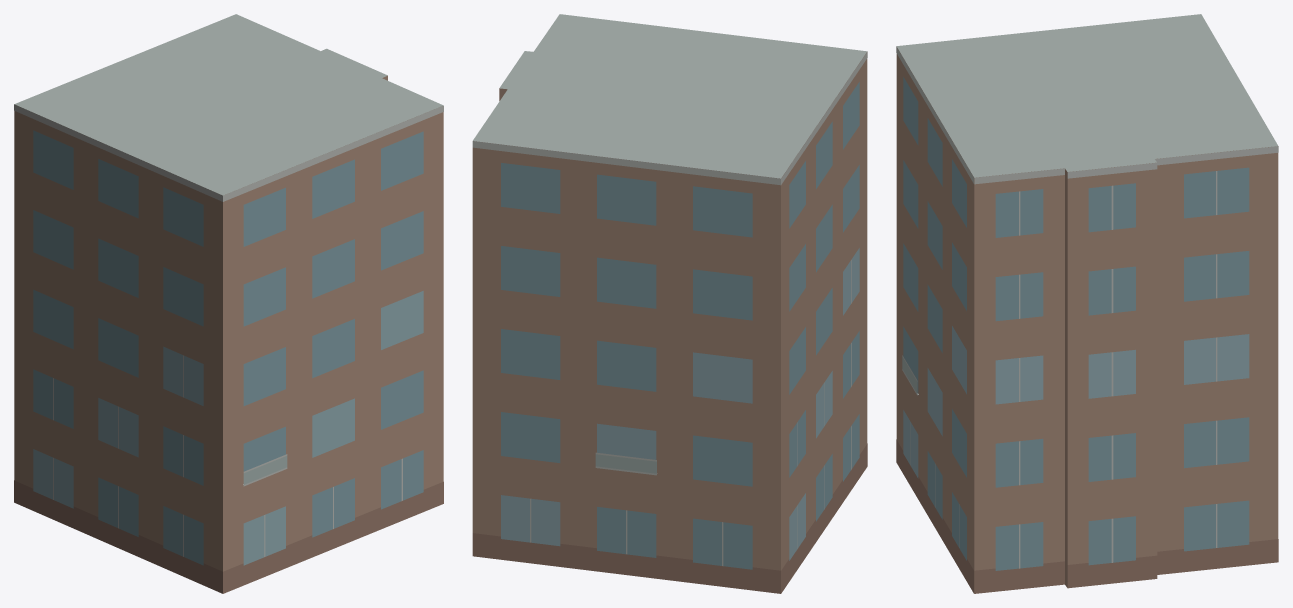
The model's file is survey-upis-32859117.glb.
The picture shows the model from 3 angles, left to right: view 1: azimuth 30°, elevation 25°; view 2: azimuth 150°, elevation 25°; view 3: azimuth 270°, elevation 25°; orthographic projection. The views are drawn at different scales.
Parts seen in each view (by area): view 1: survey-upis-32859117.tmp; view 2: survey-upis-32859117.tmp; view 3: survey-upis-32859117.tmp.
Part boxes in pixels (x1=…): survey-upis-32859117.tmp: x1=14, y1=14, x2=443, y2=593; survey-upis-32859117.tmp: x1=472, y1=14, x2=867, y2=593; survey-upis-32859117.tmp: x1=896, y1=14, x2=1278, y2=593.
Size of the model in its own units: 12.83 by 15.2 by 12.65.
